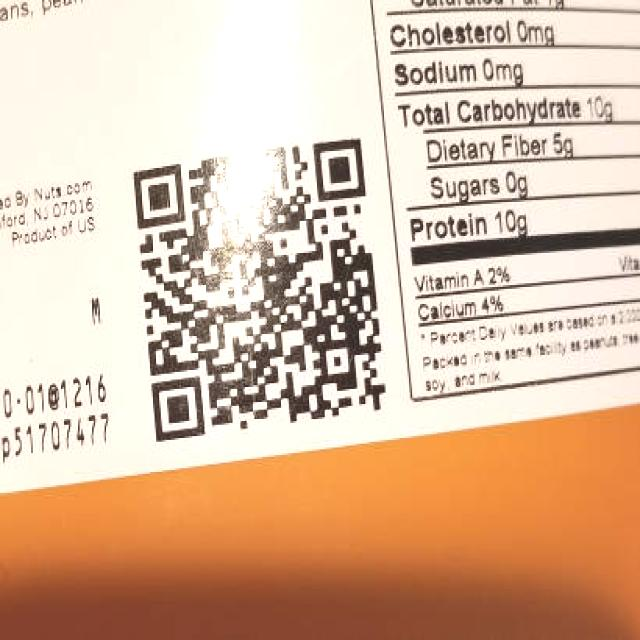QRCode: (117, 116, 398, 450)
